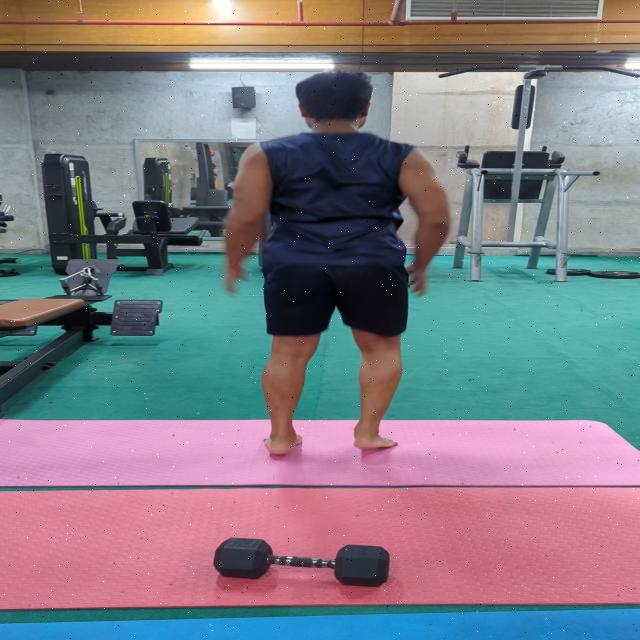Normal_JumpingJacks: (192, 49, 492, 445)
